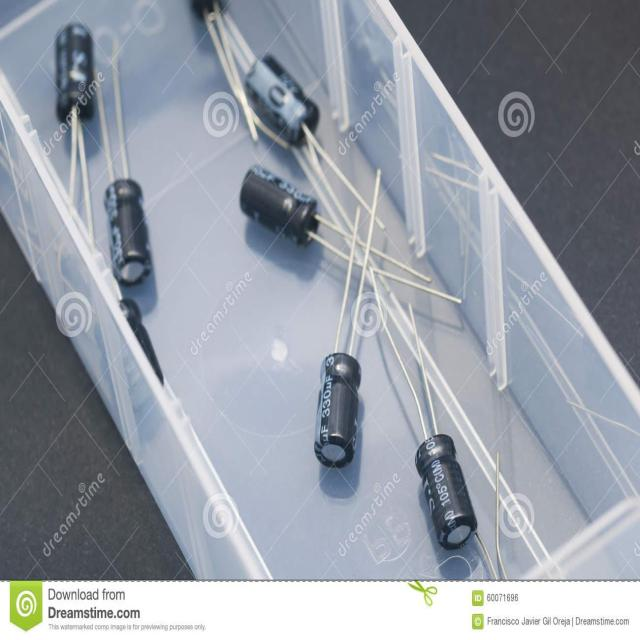Capacitor: (382, 304, 478, 548), (314, 170, 381, 466), (245, 54, 370, 211), (95, 36, 152, 284), (240, 165, 365, 261), (55, 24, 94, 250), (120, 299, 164, 384)
